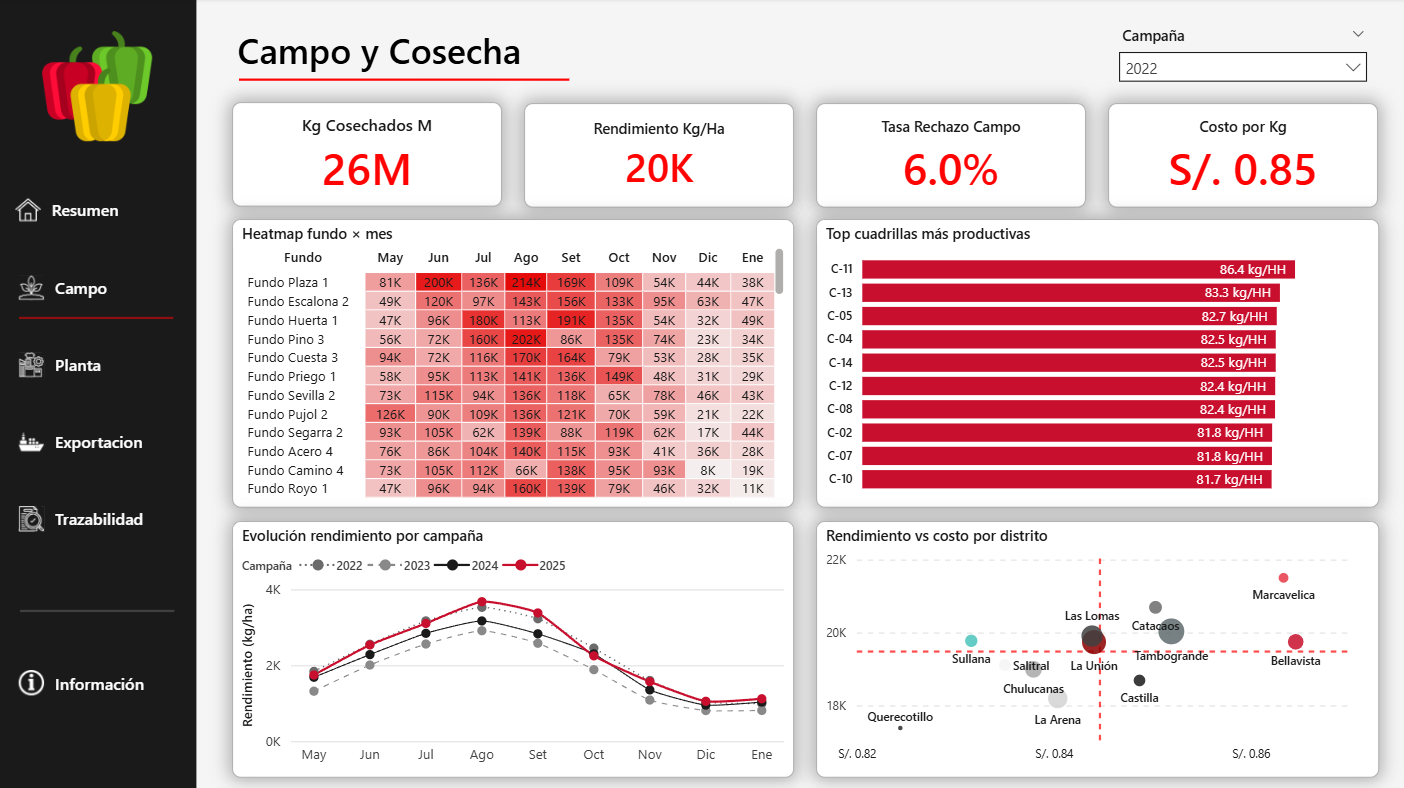

The page's visual inventory and layout, read from the dashboard file:
{"tool":"powerbi","page":{"name":"Campo","canvas":[1280,720],"ordinal":1},"visuals":[{"type":"shape","box":[0,0,180.4,720],"z":0},{"type":"cardVisual","fields":{"Data":["_Medidas.Kg Cosechados M"]},"box":[212.2,94.5,245.3,95],"z":1000},{"type":"cardVisual","fields":{"Data":["_Medidas.Rendimiento K"]},"box":[477.1,95,245,95],"z":2000},{"type":"cardVisual","fields":{"Data":["FactCosecha.Tasa Rechazo Campo %"]},"box":[742.1,95,245,95],"z":3000},{"type":"cardVisual","fields":{"Data":["FactCosecha.Costo Cosecha S/. Kg"]},"box":[1007.1,95,245,95],"z":4000},{"type":"textbox","box":[212.1,20,380,55],"z":5000},{"type":"shape","box":[218.2,68.4,299.6,12.1],"z":6000},{"type":"slicer","fields":{"Values":["DimFecha.Campania"]},"box":[1007.3,19.8,245.1,61],"z":7000},{"type":"pivotTable","title":"Heatmap fundo × mes","fields":{"Columns":["DimFecha.NombreMesCampania"],"Rows":["DimFundo.NombreFundo"],"Values":["_Medidas.Total Kg"]},"box":[211.9,200.2,509.9,262],"z":8000},{"type":"clusteredBarChart","title":"Top cuadrillas más productivas","fields":{"Category":["DimCuadrilla.CodCuadrilla"],"Y":["FactCosecha.Productividad Cuadrilla Kg HH"]},"box":[742.4,200.2,510.8,262.1],"z":9000},{"type":"actionButton","box":[12,170,155,44],"z":10000},{"type":"shape","box":[18.9,283.7,140,12.6],"z":11000},{"type":"actionButton","box":[12,240,155,44],"z":12000},{"type":"actionButton","box":[12,310,155,44],"z":13000},{"type":"actionButton","box":[12,380,155,44],"z":14000},{"type":"actionButton","box":[12,450,155,44],"z":15000},{"type":"image","box":[39.5,29.6,99.7,99.7],"z":16000},{"type":"actionButton","box":[12,600,154.4,44],"z":17000},{"type":"shape","box":[19.8,550,140,12.6],"z":18000},{"type":"lineChart","title":"Evolución rendimiento por campaña","fields":{"Category":["DimFecha.NombreMesCampania"],"Series":["DimFecha.Campania"],"Y":["_Medidas.Rendimiento K"]},"box":[211.9,474,509.9,233.4],"z":19000},{"type":"scatterChart","title":"Rendimiento vs costo por distrito","fields":{"X":["FactCosecha.Costo Cosecha S/. Kg"],"Size":["FactCosecha.Hectareas Productivas"],"Y":["_Medidas.Rendimiento K"],"Series":["DimFundo.Distrito"]},"box":[742.4,474,510.8,233.4],"z":20000}]}

Visuals, with their boxes on the page's 1280x720 design canvas (x1, y1, x2, y2). These are canvas units, not pixel positions in the 1404x788 screenshot, which may show the page scaled, cropped or inside an application window:
shape: bbox=(0, 0, 180, 720)
cardVisual - _Medidas.Kg Cosechados M: bbox=(212, 94, 458, 190)
cardVisual - _Medidas.Rendimiento K: bbox=(477, 95, 722, 190)
cardVisual - FactCosecha.Tasa Rechazo Campo %: bbox=(742, 95, 987, 190)
cardVisual - FactCosecha.Costo Cosecha S/. Kg: bbox=(1007, 95, 1252, 190)
textbox: bbox=(212, 20, 592, 75)
shape: bbox=(218, 68, 518, 80)
slicer - DimFecha.Campania: bbox=(1007, 20, 1252, 81)
"Heatmap fundo × mes" pivotTable: bbox=(212, 200, 722, 462)
"Top cuadrillas más productivas" clusteredBarChart: bbox=(742, 200, 1253, 462)
actionButton: bbox=(12, 170, 167, 214)
shape: bbox=(19, 284, 159, 296)
actionButton: bbox=(12, 240, 167, 284)
actionButton: bbox=(12, 310, 167, 354)
actionButton: bbox=(12, 380, 167, 424)
actionButton: bbox=(12, 450, 167, 494)
image: bbox=(40, 30, 139, 129)
actionButton: bbox=(12, 600, 166, 644)
shape: bbox=(20, 550, 160, 563)
"Evolución rendimiento por campaña" lineChart: bbox=(212, 474, 722, 707)
"Rendimiento vs costo por distrito" scatterChart: bbox=(742, 474, 1253, 707)
